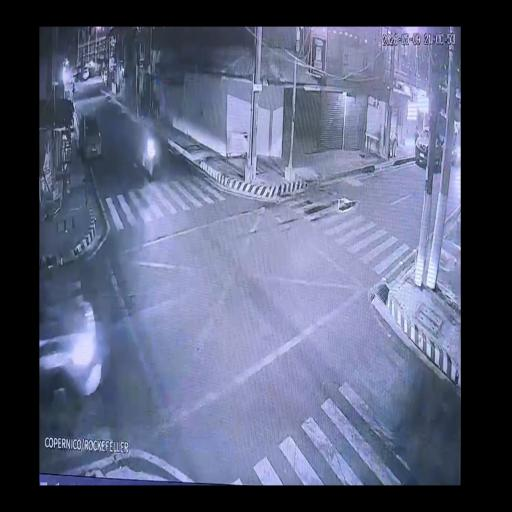Car: (31, 284, 104, 388)
Motor: (141, 129, 159, 181)
